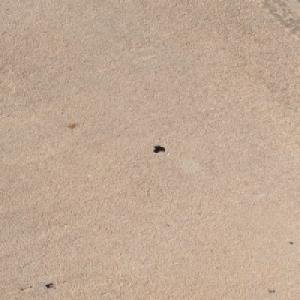BoltWasher: (152, 145, 162, 152)
